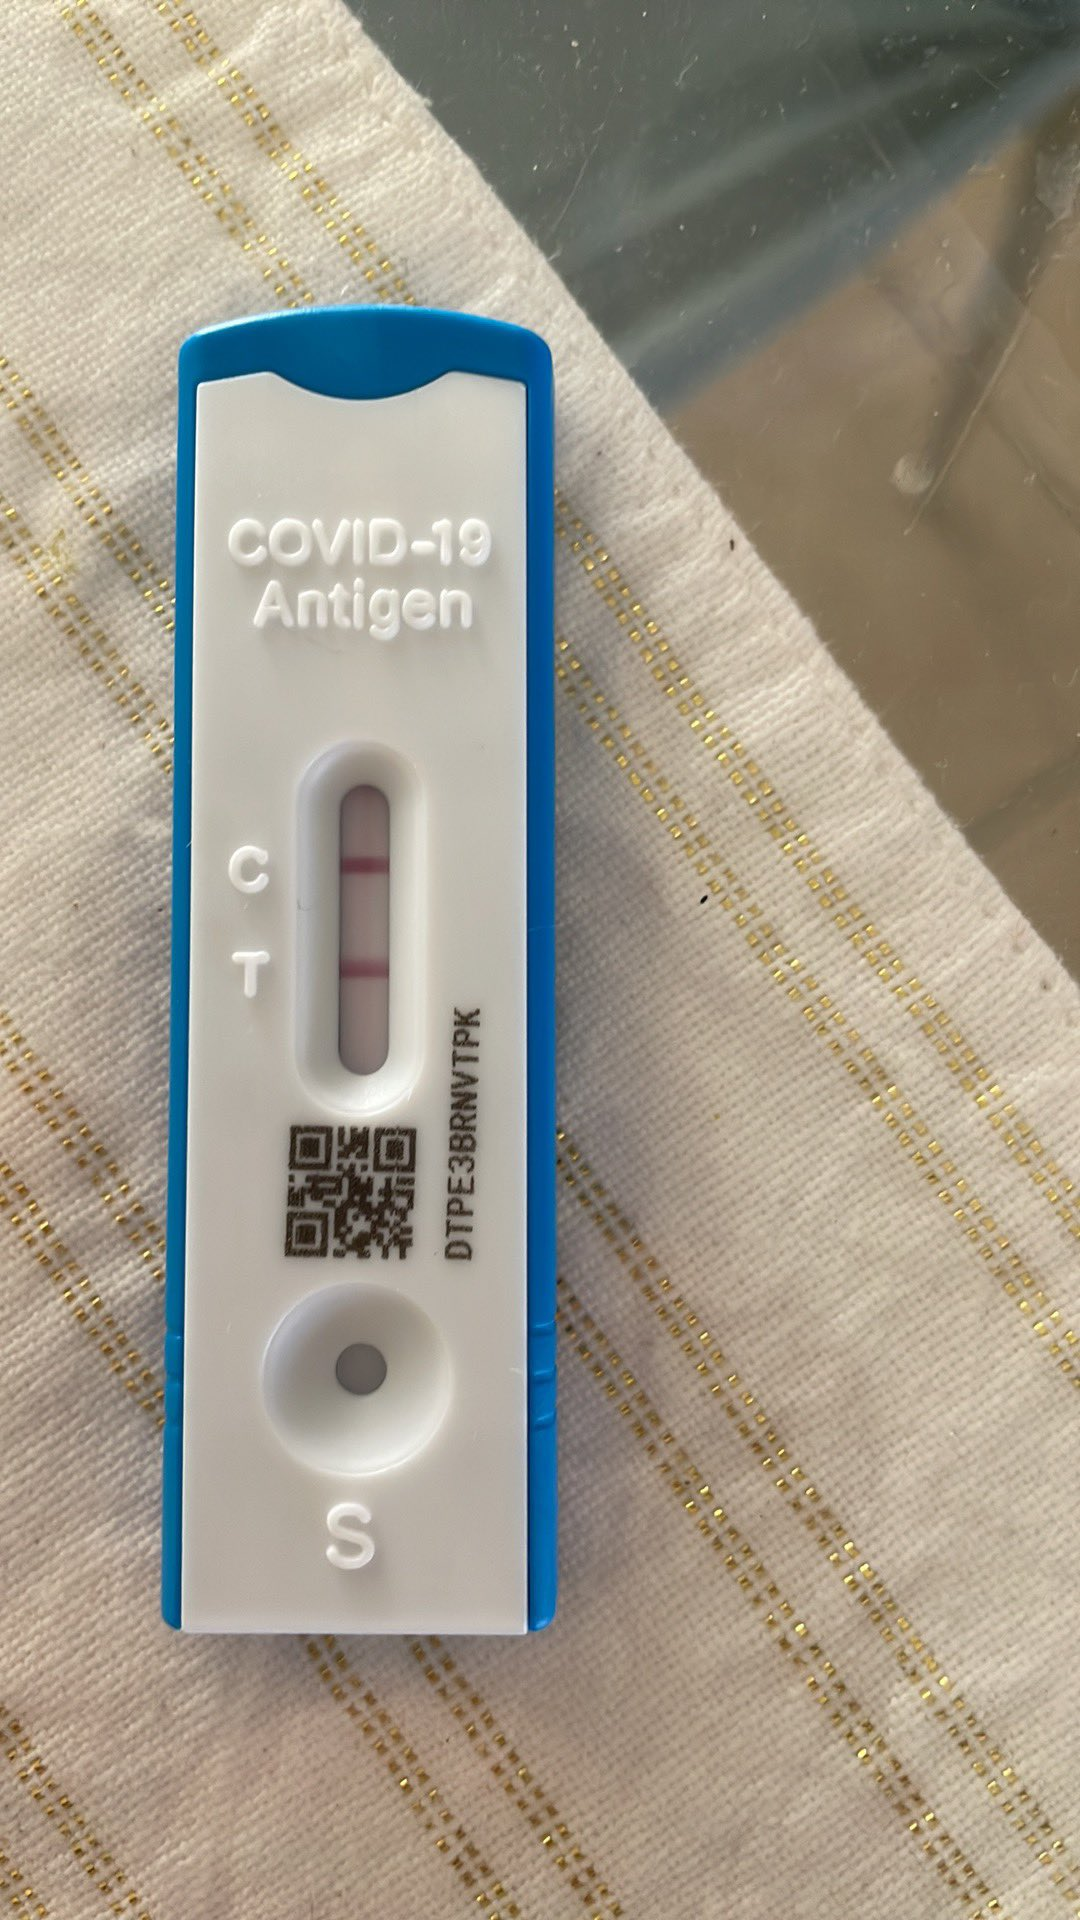positive: (294, 756, 411, 1102)
